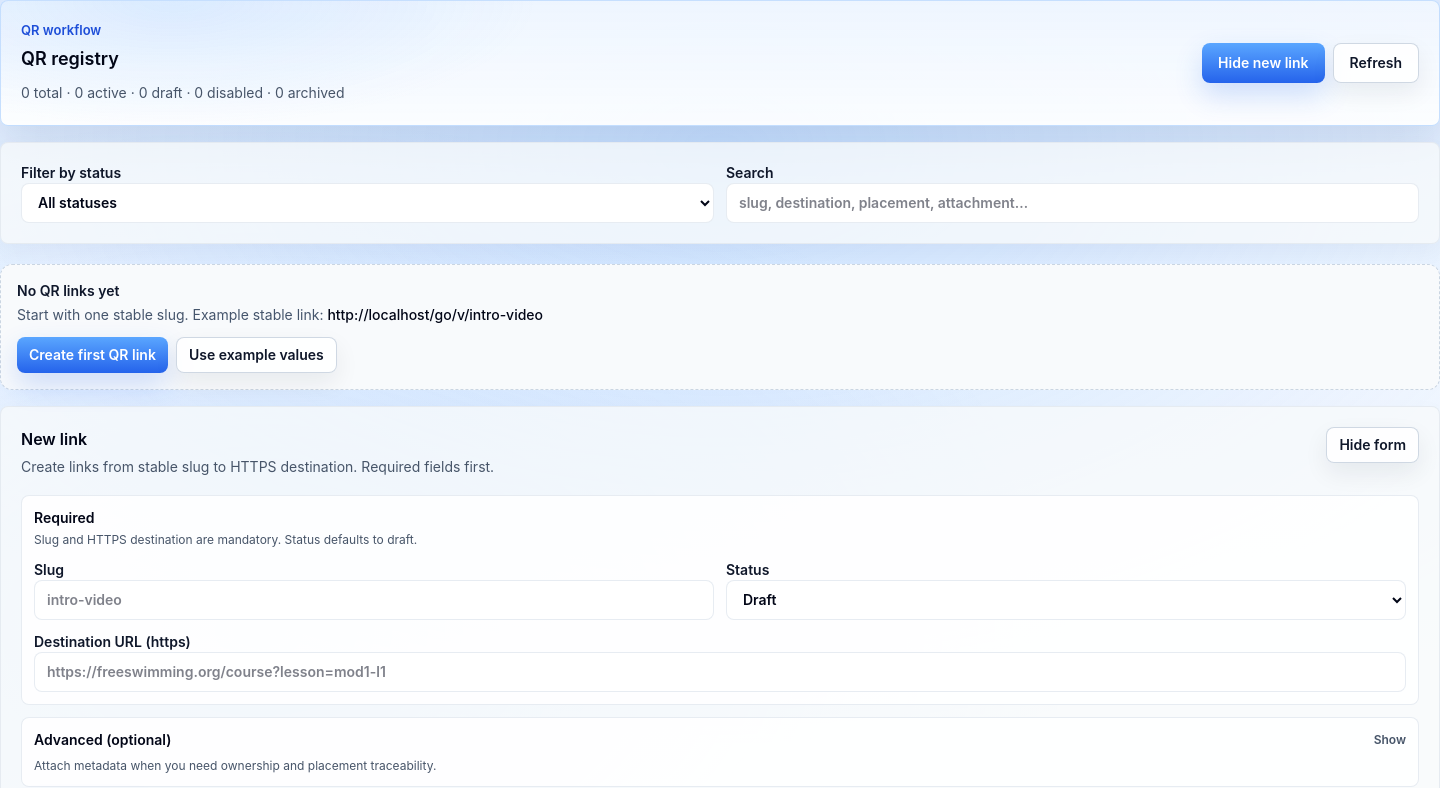
Test: AdminQrLinksManager state rendering › keeps the empty QR state action slots wired
Expected: the element with test id "admin-qr-empty-state" shows "No QR links yet", [17,282,120,298]
Expected: the element with test id "admin-qr-empty-state" shows "Start with one stable slug.", [17,306,324,322]
Click the button "Use example values" below "http://localhost/go/v/intro-video" at (256, 354), box [176,336,337,372]
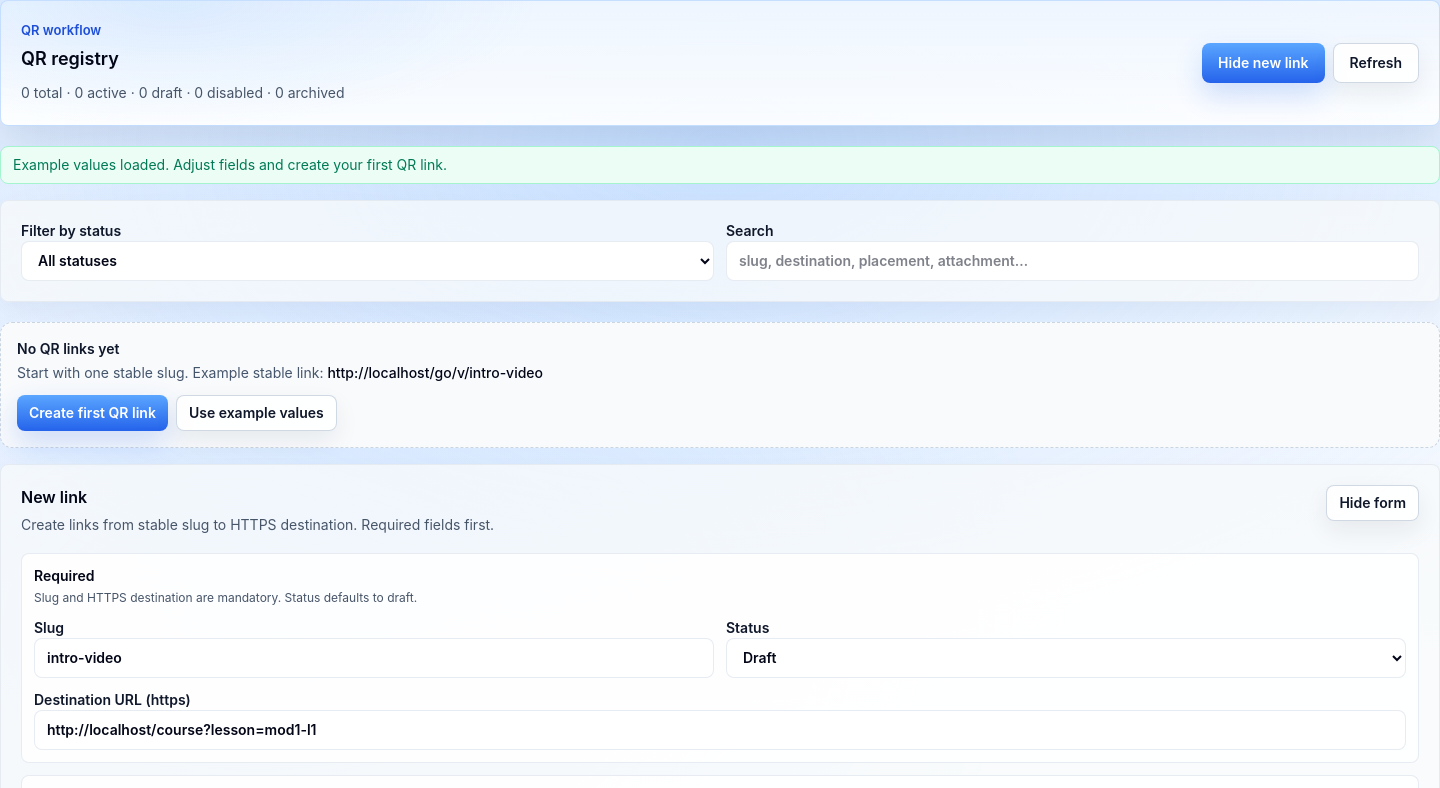
Expected: the field labelled "Slug" holds "intro-video", [34,638,714,678]
